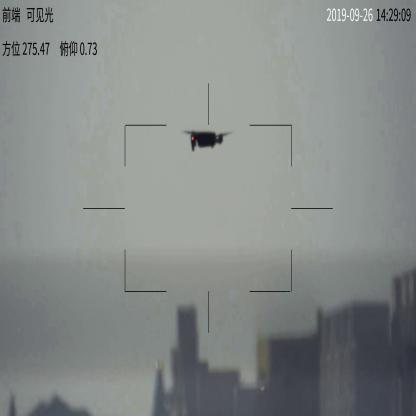uav: (181, 125, 234, 155)
